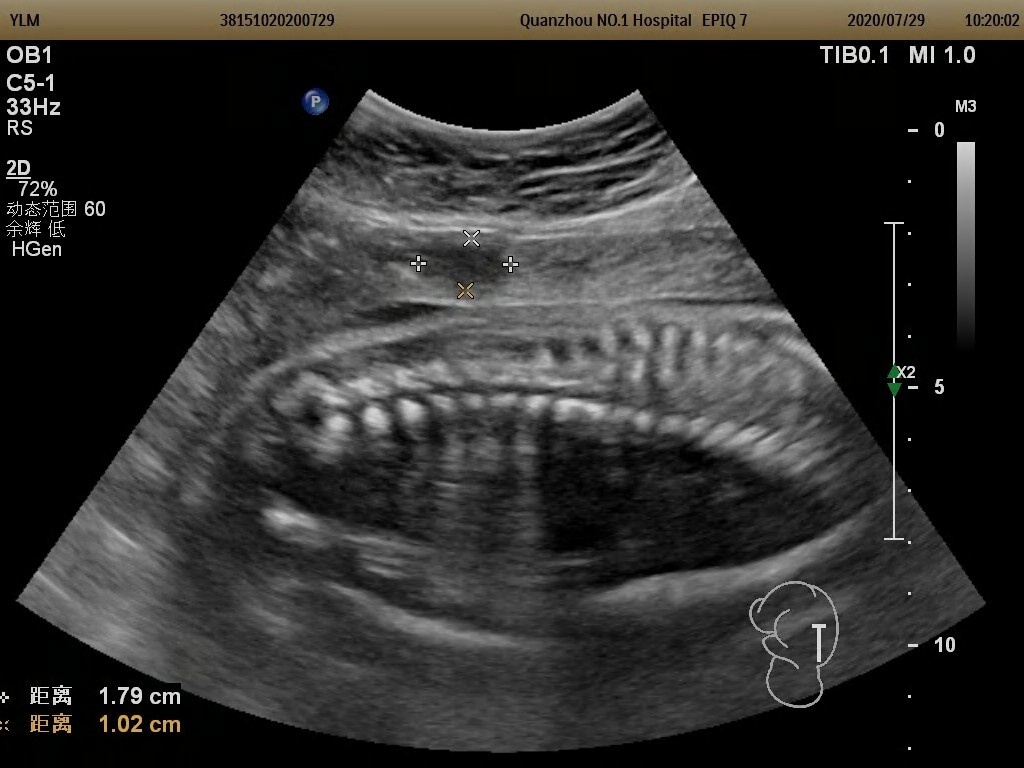肌瘤: (416, 236, 508, 290)
